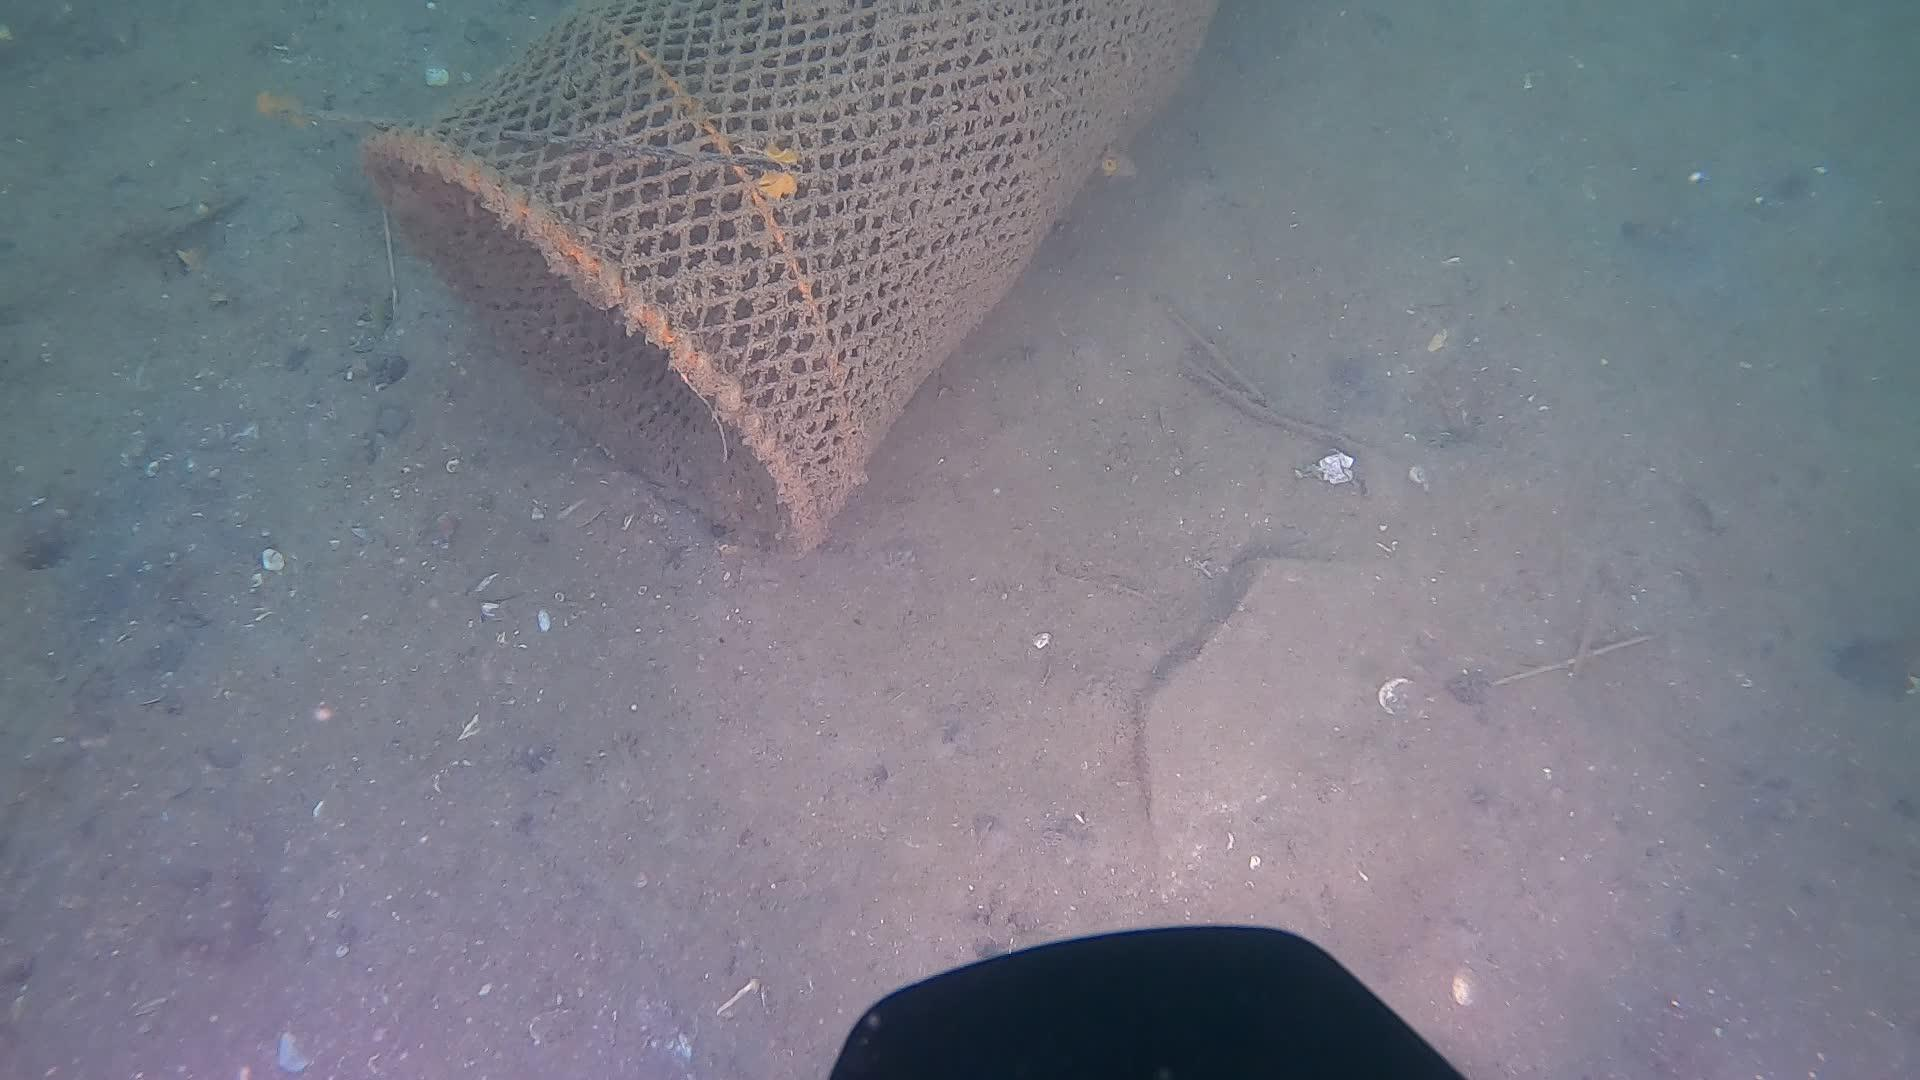spring fish trap: (359, 0, 1226, 549)
